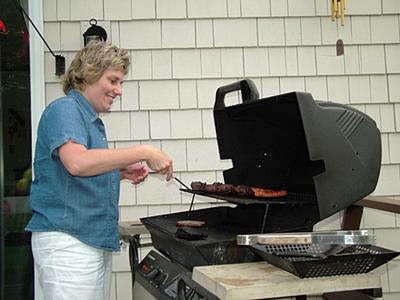person: (27, 40, 172, 300)
